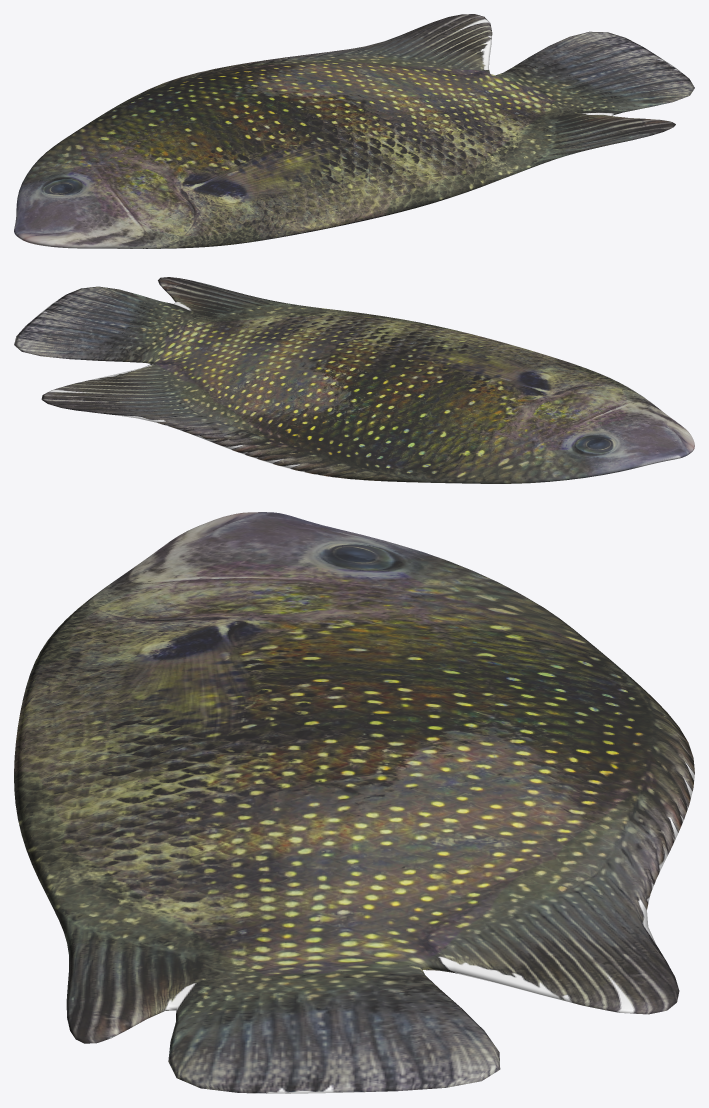
Rendered from pearl_spot_fish_anil.glb.
3 renders of one model, top to bottom at view 1: azimuth 30°, elevation 25°; view 2: azimuth 150°, elevation 25°; view 3: azimuth 270°, elevation 25°, orthographic. The views are drawn at different scales.
Parts seen in each view (by area): view 1: Cube; view 2: Cube; view 3: Cube.
Part boxes in pixels (x1,y1,x2,y2): Cube: (14,14,694,248); Cube: (14,277,694,483); Cube: (14,512,694,1093).
Size of the model in its own units: 4.78 by 0.4099 by 2.38.
1 material, 1 textured.
